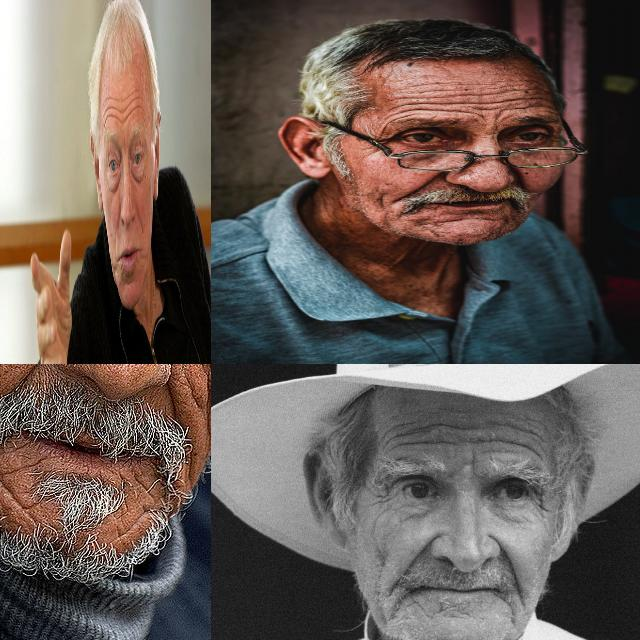chin: (114, 475, 148, 529), (0, 457, 29, 519), (425, 217, 474, 230), (412, 601, 451, 617), (501, 592, 519, 624), (474, 212, 504, 224)
crows_feet: (368, 485, 394, 511), (530, 484, 546, 516)
forehead: (386, 422, 426, 456), (493, 414, 535, 440), (434, 91, 473, 117), (477, 91, 513, 119), (432, 418, 460, 452), (488, 432, 530, 454), (518, 89, 551, 116), (420, 77, 477, 91), (391, 93, 426, 115), (123, 90, 146, 122), (102, 102, 120, 127)
frown_line: (468, 449, 482, 478), (121, 128, 128, 153)
gummy_smile: (402, 537, 434, 575), (159, 377, 183, 421), (397, 173, 446, 194), (498, 544, 522, 580), (14, 364, 46, 384), (136, 200, 144, 235)
masseter: (199, 364, 211, 427), (370, 191, 390, 212)
